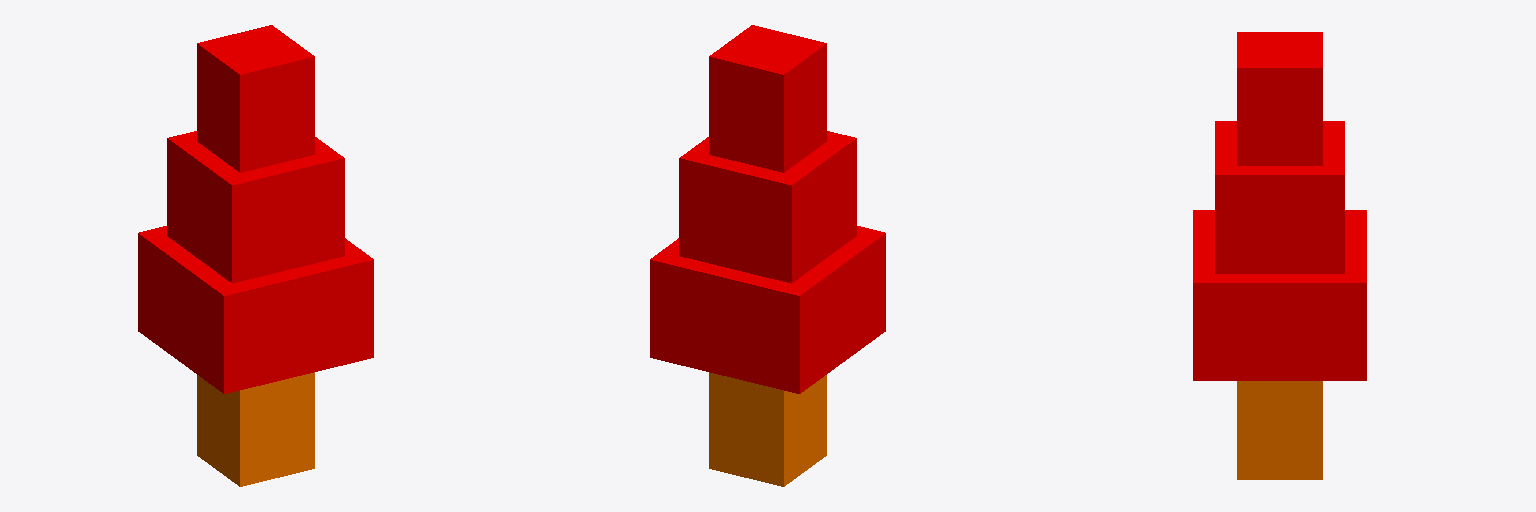
The picture shows the model from 3 angles: view 1: azimuth 30°, elevation 25°; view 2: azimuth 150°, elevation 25°; view 3: azimuth 270°, elevation 25°; orthographic projection.
Parts seen in each view (by area): view 1: Head2, Head1, Stem; view 2: Head2, Head1, Stem; view 3: Head2, Head1, Stem.
Part boxes in pixels (bbox=[...]): Head2: bbox=[167, 25, 344, 283]; Head1: bbox=[138, 226, 373, 393]; Stem: bbox=[197, 372, 314, 486]; Head2: bbox=[679, 25, 856, 283]; Head1: bbox=[650, 226, 885, 393]; Stem: bbox=[709, 372, 826, 486]; Head2: bbox=[1215, 32, 1344, 273]; Head1: bbox=[1193, 210, 1366, 380]; Stem: bbox=[1237, 381, 1322, 479].
Size of the model in its own units: 0.25 by 0.6562 by 0.25.
1 materials, 1 textured.